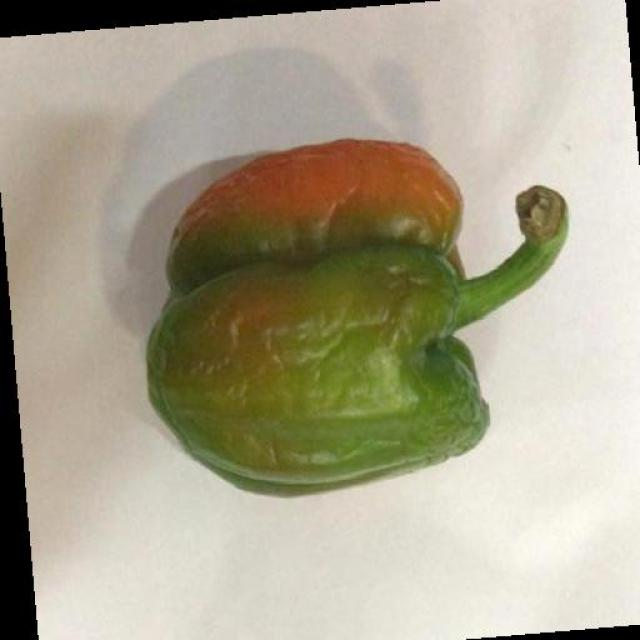Stale_Capsicum: (152, 151, 524, 498)
